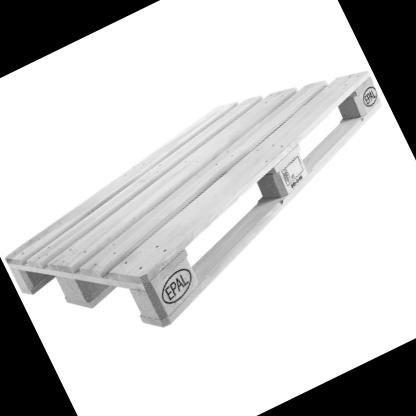BoxFace: (0, 66, 389, 333)
